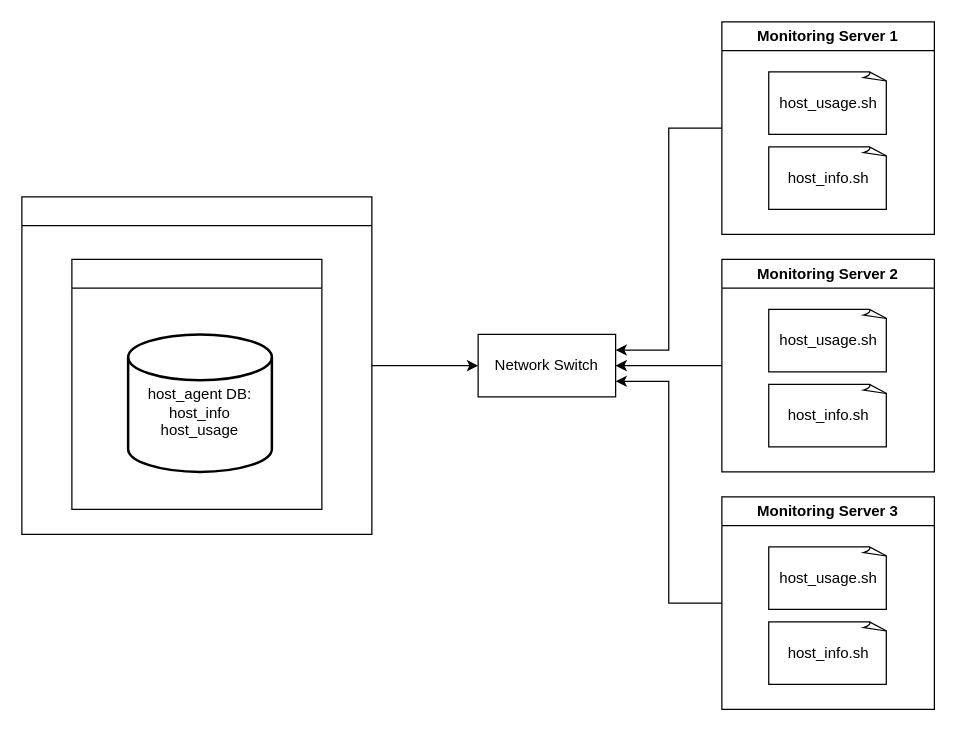
This 956x731 diagram has some shape labels left out. Each missing label, with the box of its shape:
Docker Host: (71, 258, 322, 509)
Monitoring Server: (21, 196, 372, 534)
